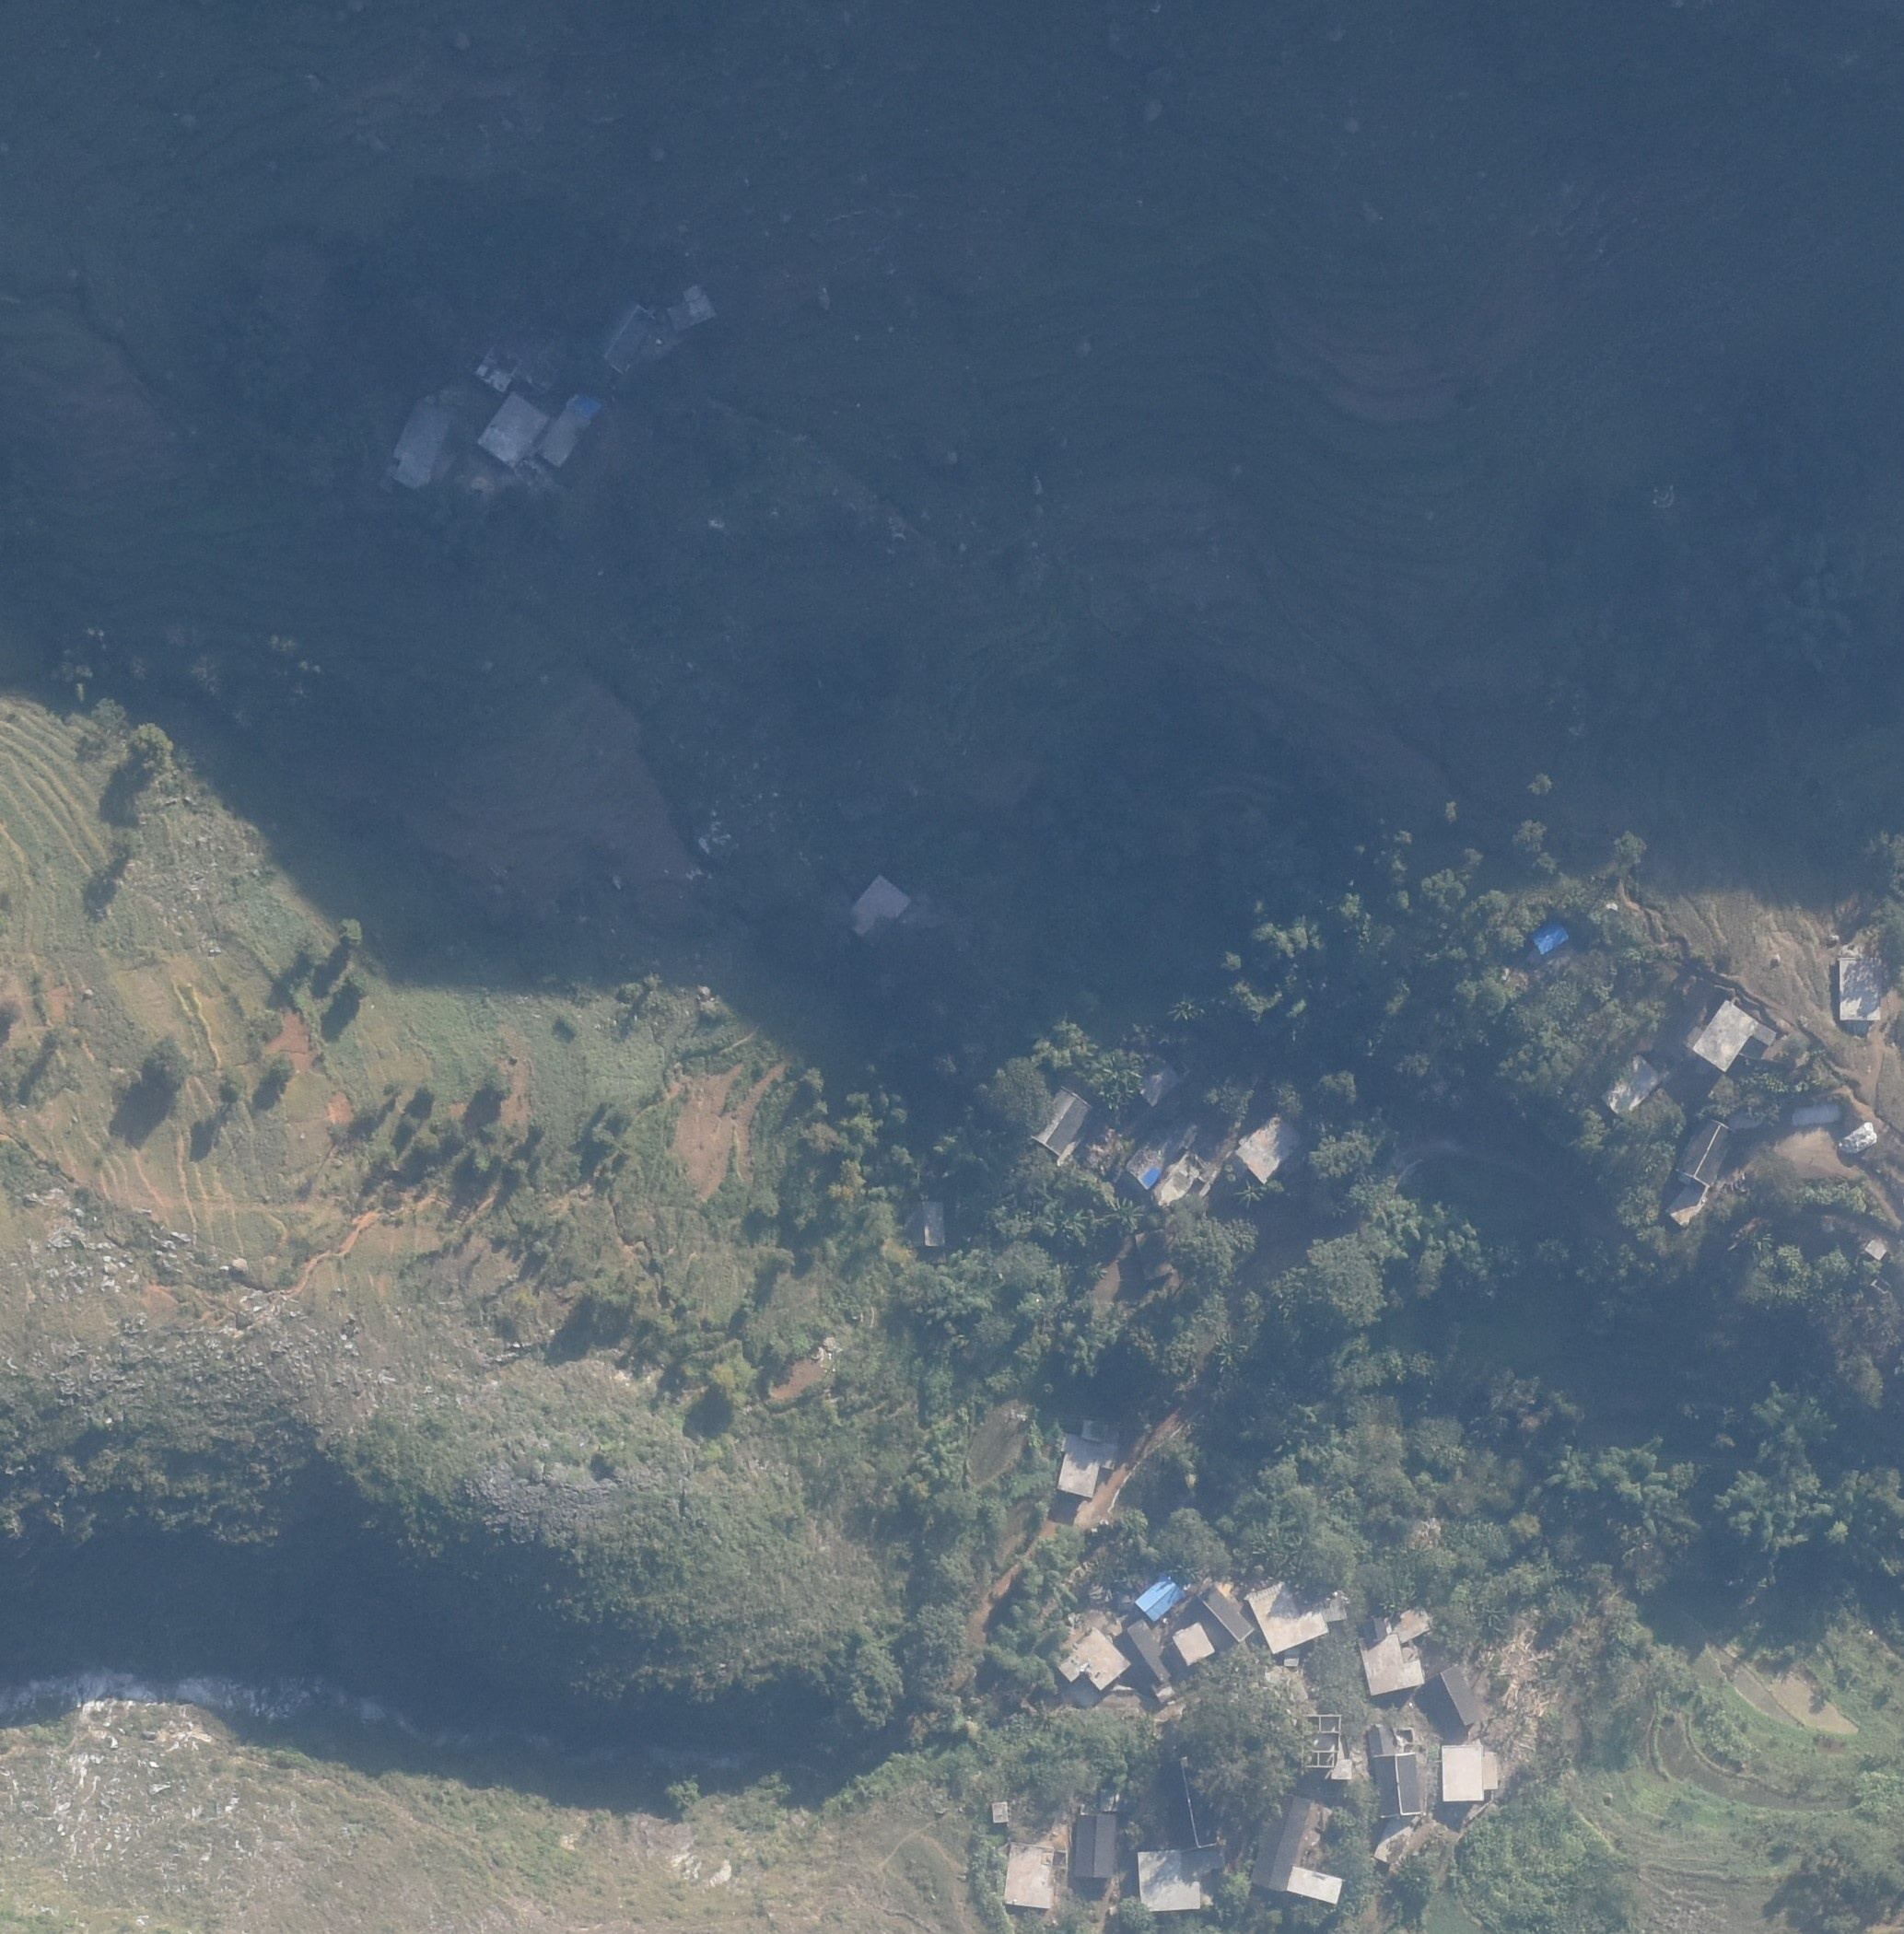building: (1690, 998, 1777, 1072), (384, 400, 453, 489), (1253, 1793, 1314, 1892), (1245, 1582, 1331, 1651), (1137, 1846, 1224, 1913), (477, 390, 549, 466), (1359, 1617, 1425, 1696), (540, 390, 604, 470), (1168, 1763, 1224, 1849), (1373, 1727, 1422, 1821), (847, 873, 912, 945), (1673, 1117, 1736, 1190), (1057, 1629, 1132, 1691), (1057, 1421, 1116, 1497), (591, 303, 656, 373), (1238, 1110, 1301, 1181), (1032, 1085, 1092, 1158), (1004, 1844, 1069, 1910), (1603, 1052, 1665, 1119), (1191, 1586, 1254, 1646), (1116, 1624, 1171, 1691), (1138, 1037, 1190, 1106), (1300, 1717, 1353, 1780), (1427, 1663, 1478, 1729), (1443, 1747, 1498, 1802), (1840, 951, 1882, 1023), (1075, 1815, 1116, 1882), (473, 340, 524, 389), (665, 285, 718, 331), (1286, 1866, 1343, 1905), (1374, 1815, 1419, 1862), (1134, 1230, 1174, 1281), (904, 1198, 947, 1245), (1173, 1621, 1215, 1666), (1664, 1186, 1707, 1229), (1391, 1606, 1432, 1642), (1322, 1589, 1348, 1622), (1793, 1106, 1840, 1123), (993, 1800, 1011, 1827)
prefabricated-house: (1132, 1575, 1185, 1619), (1530, 916, 1569, 954)
